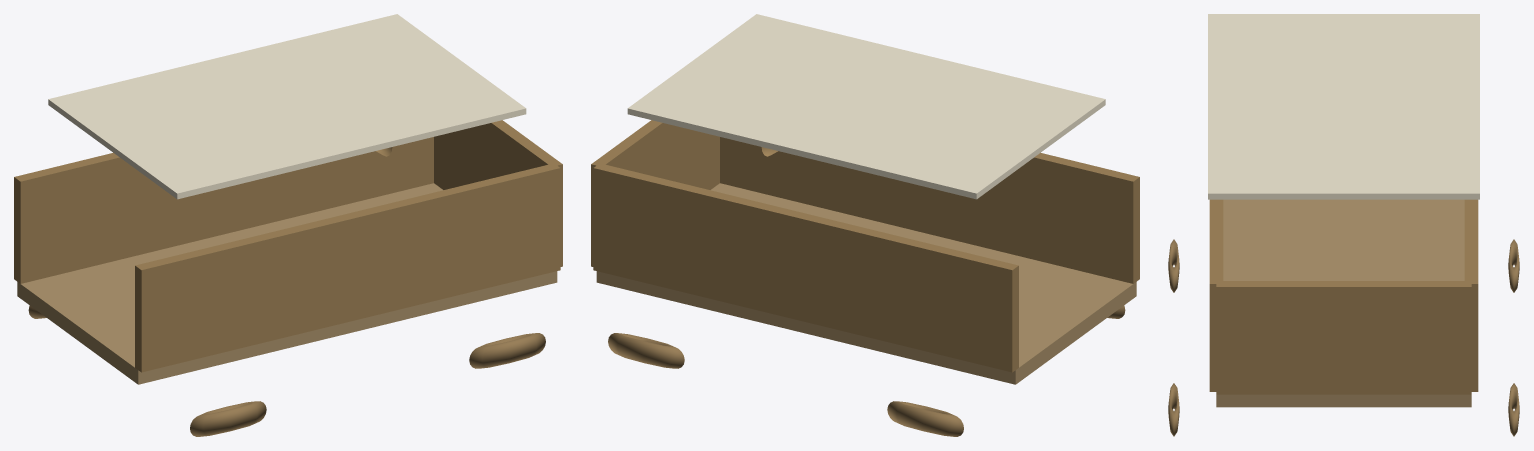
Rendered from env-med-wagon.glb.
The picture shows the model from 3 angles, left to right: view 1: azimuth 30°, elevation 25°; view 2: azimuth 150°, elevation 25°; view 3: azimuth 270°, elevation 25°; orthographic projection. The views are drawn at different scales.
Size of the model in its own units: 3.04 by 1.59 by 2.07.
